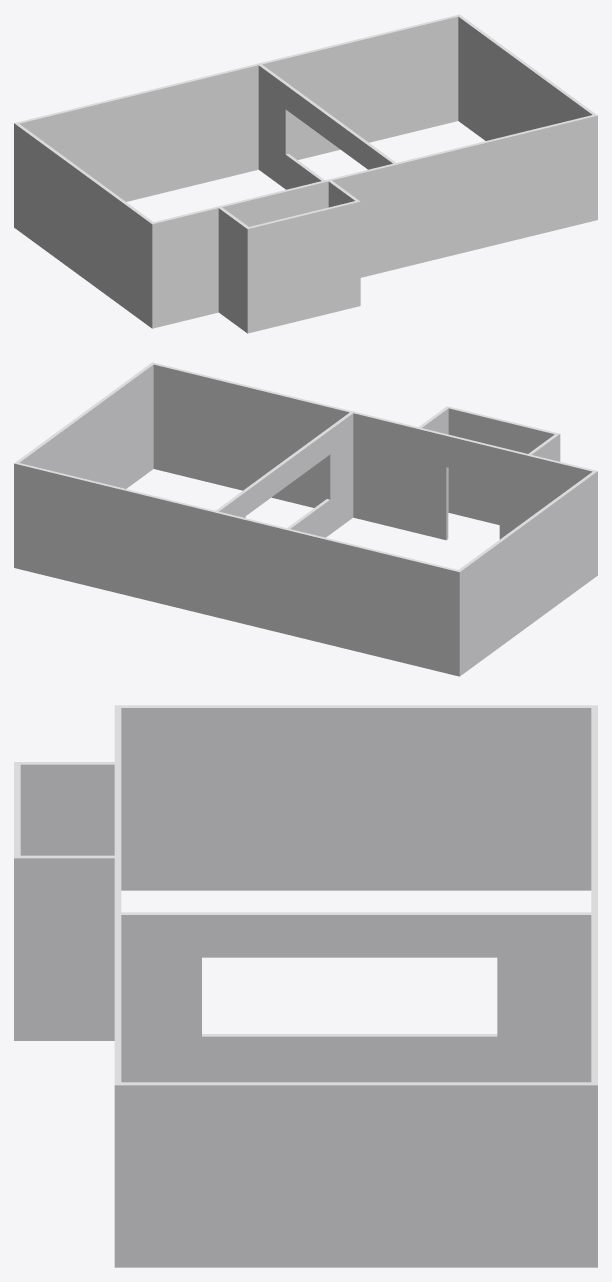
Rendered from TheatreWalls.obj.
3 views of the same model, one above another, from view 1: azimuth 30°, elevation 25°; view 2: azimuth 150°, elevation 25°; view 3: azimuth 270°, elevation 25° (orthographic). The views are drawn at different scales.
Parts seen in each view (by area): view 1: TheatreWalls; view 2: TheatreWalls; view 3: TheatreWalls.
Part boxes in pixels (x1,y1,x2,y2): TheatreWalls: [14, 14, 597, 333]; TheatreWalls: [14, 362, 597, 676]; TheatreWalls: [14, 705, 597, 1267].
Bounding box in the file's own units: 13.4 × 3 × 8.7.
1 material, 1 textured.
